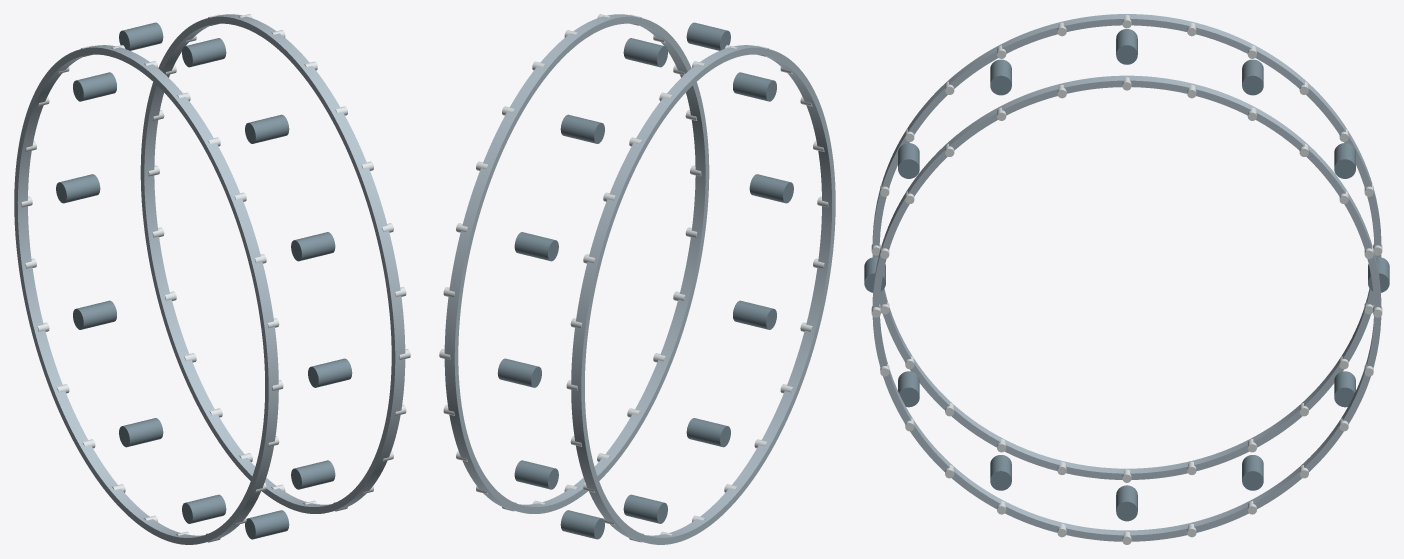
File: compressor-service-hardware.glb
3 views of the same model, side by side, from view 1: azimuth 30°, elevation 25°; view 2: azimuth 150°, elevation 25°; view 3: azimuth 270°, elevation 25° (orthographic).
Visible parts, largest first — view 1: compressor-service-hardware - steel, compressor-service-hardware - shell, compressor-service-hardware - fastener; view 2: compressor-service-hardware - steel, compressor-service-hardware - shell, compressor-service-hardware - fastener; view 3: compressor-service-hardware - steel, compressor-service-hardware - shell, compressor-service-hardware - fastener.
Part boxes in pixels (x1=…): compressor-service-hardware - steel: x1=14, y1=14, x2=405, y2=544; compressor-service-hardware - shell: x1=56, y1=22, x2=352, y2=539; compressor-service-hardware - fastener: x1=21, y1=14, x2=410, y2=542; compressor-service-hardware - steel: x1=444, y1=14, x2=835, y2=544; compressor-service-hardware - shell: x1=497, y1=22, x2=793, y2=539; compressor-service-hardware - fastener: x1=439, y1=14, x2=828, y2=542; compressor-service-hardware - steel: x1=872, y1=14, x2=1381, y2=541; compressor-service-hardware - shell: x1=864, y1=29, x2=1389, y2=521; compressor-service-hardware - fastener: x1=871, y1=15, x2=1382, y2=544.
Size of the model in its own units: 0.573 by 1.84 by 1.84.
